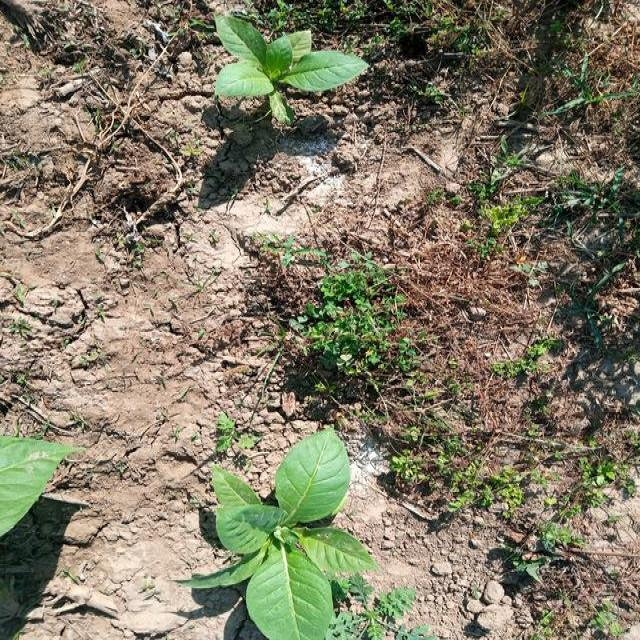crop: (202, 431, 372, 640), (203, 12, 364, 119), (0, 435, 74, 540)
